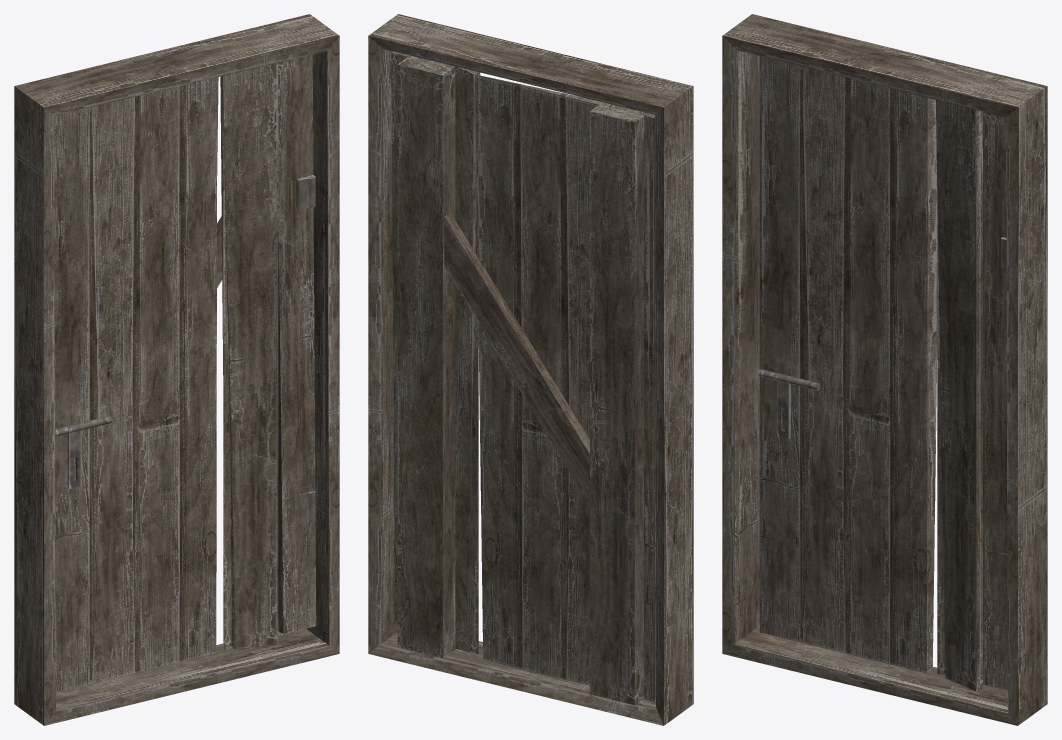
Rendered from SM_WoodenDoor02.FBX.
The picture shows the model from 3 angles, left to right: view 1: azimuth 30°, elevation 25°; view 2: azimuth 150°, elevation 25°; view 3: azimuth 330°, elevation 25°; orthographic projection.
Parts seen in each view (by area): view 1: SM_WoodenDoor02; view 2: SM_WoodenDoor02; view 3: SM_WoodenDoor02.
Part boxes in pixels (x1,y1,x2,y2): SM_WoodenDoor02: (14,14,339,725); SM_WoodenDoor02: (368,14,693,725); SM_WoodenDoor02: (722,14,1047,725).
Bounding box in the file's own units: 200 × 36.25 × 400.
